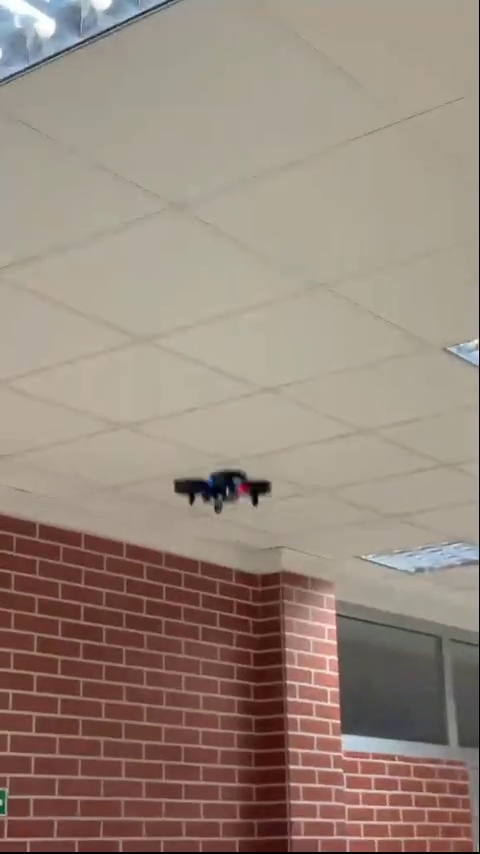drone: (171, 466, 274, 514)
